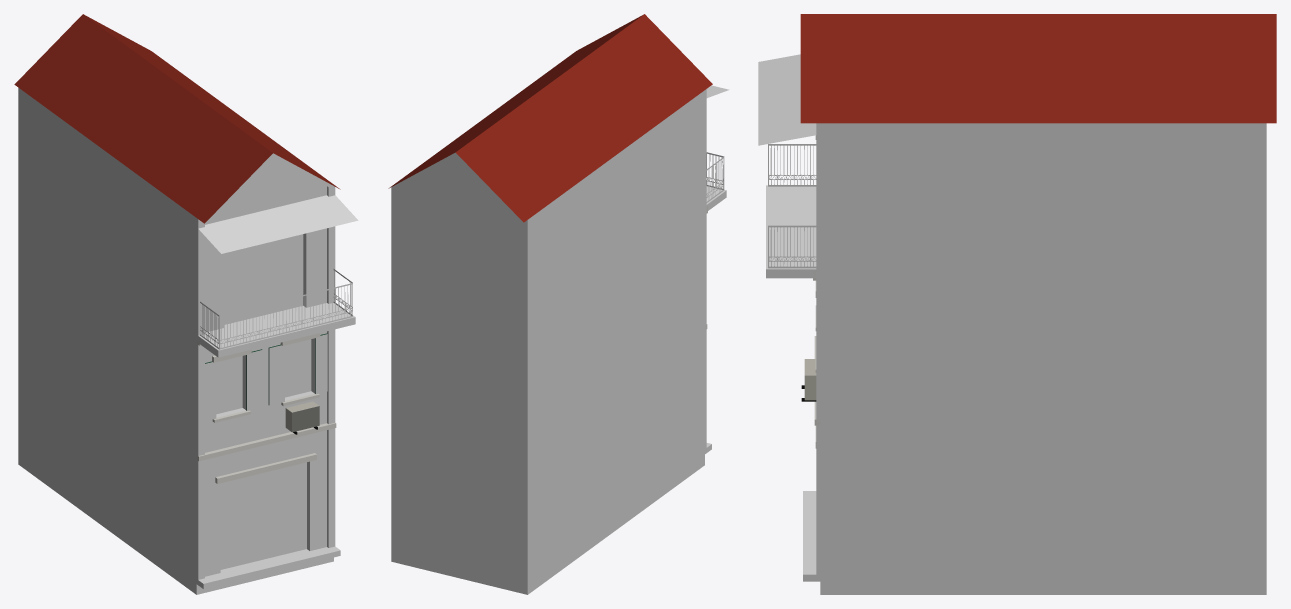
3 renders of one model, left to right at view 1: azimuth 30°, elevation 25°; view 2: azimuth 150°, elevation 25°; view 3: azimuth 270°, elevation 25°, orthographic. The views are drawn at different scales.
Visible parts, largest first — view 1: TH_D09_C_07_LOD0; view 2: TH_D09_C_07_LOD0; view 3: TH_D09_C_07_LOD0.
Part boxes in pixels (x1,y1,x2,y2): TH_D09_C_07_LOD0: [14, 14, 358, 594]; TH_D09_C_07_LOD0: [388, 14, 729, 594]; TH_D09_C_07_LOD0: [758, 14, 1276, 594].
Size of what is drawn, in the model's own units: 4 by 12 by 10.45.
